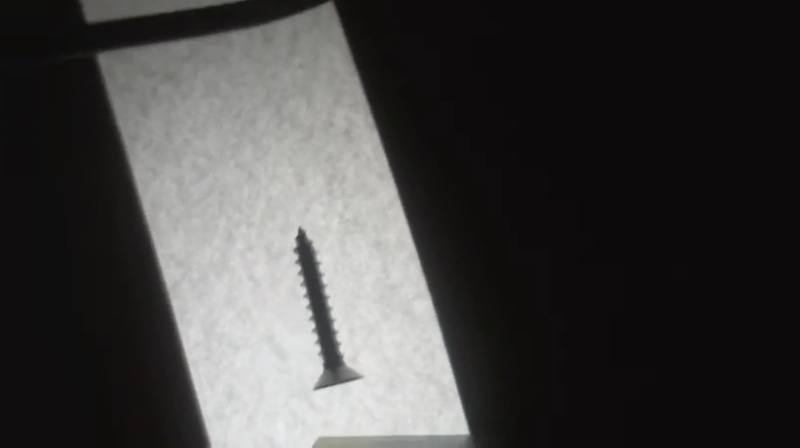S001: (289, 223, 366, 395)
